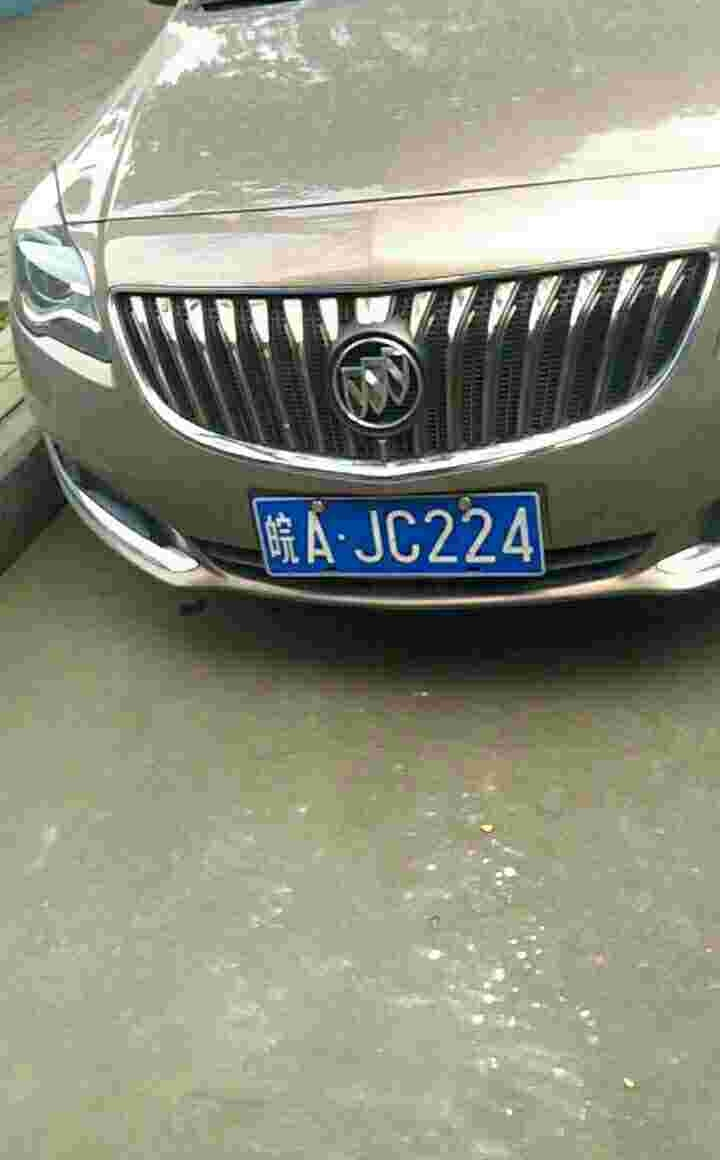license_plate: (265, 500, 538, 583)
